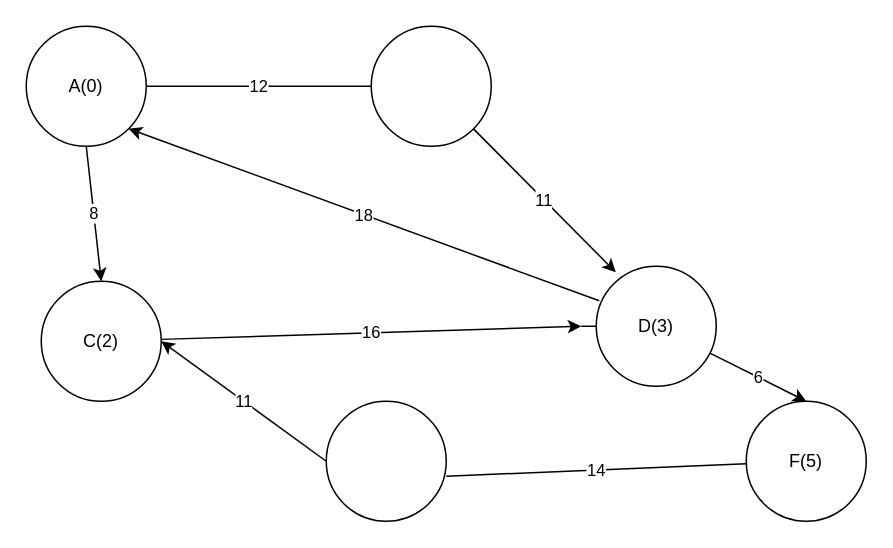
The diagram is 893 pixels wide and 548 high, and some of its shapes have lost their labels. Here are the shapes that lost their labels. From the top down, the centre of each, then its label:
At (x=430, y=85): "B(1)".
At (x=385, y=460): "E(4)".
